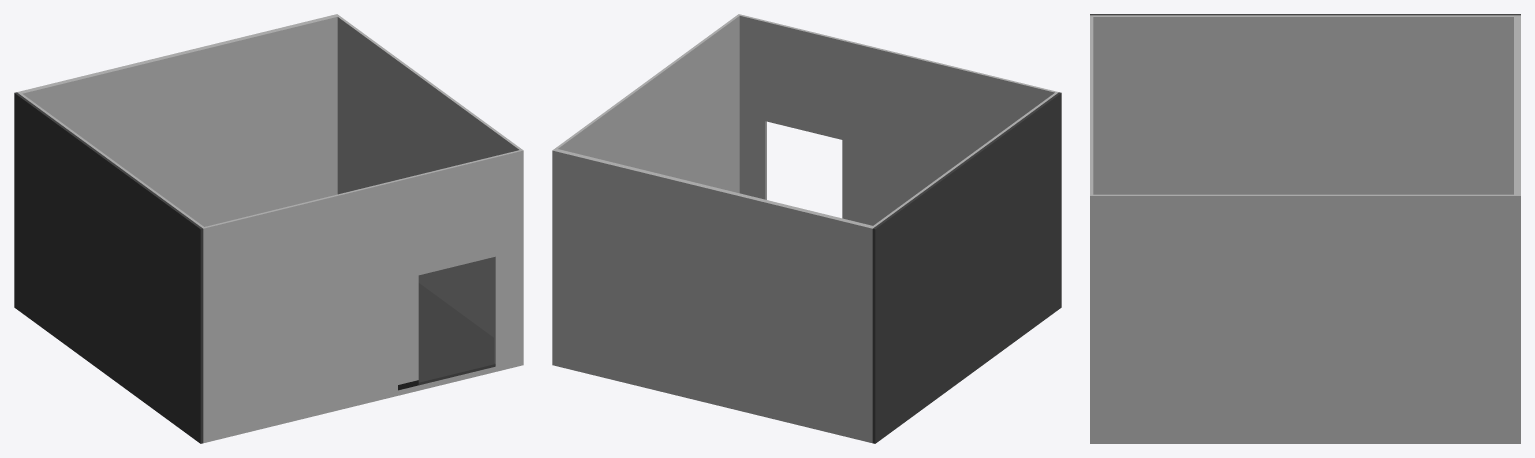
The model's file is 4x2 second (2)-3.obj.
3 renders of one model, left to right at view 1: azimuth 30°, elevation 25°; view 2: azimuth 150°, elevation 25°; view 3: azimuth 270°, elevation 25°, orthographic. The views are drawn at different scales.
Visible parts, largest first — view 1: 4x2 second (2)-3; view 2: 4x2 second (2)-3; view 3: 4x2 second (2)-3.
Part boxes in pixels (<box>): 4x2 second (2)-3: <box>14,14,523,443</box>; 4x2 second (2)-3: <box>552,14,1061,443</box>; 4x2 second (2)-3: <box>1090,14,1520,443</box>.
Size of the model in its own units: 126 by 80 by 126.
1 material, 1 textured.
